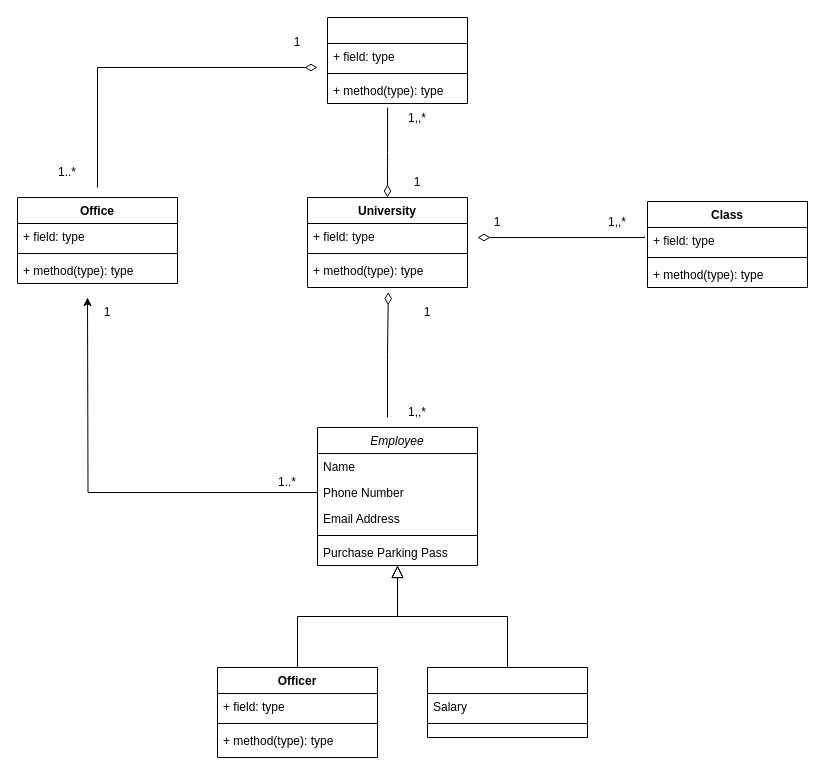
This 825x778 diagram has some shape labels left out. The box of each missing label's shape, as (x1, y1, x2, y2) in pixels:
Departmant: (326, 16, 468, 104)
Professor: (426, 666, 588, 738)
